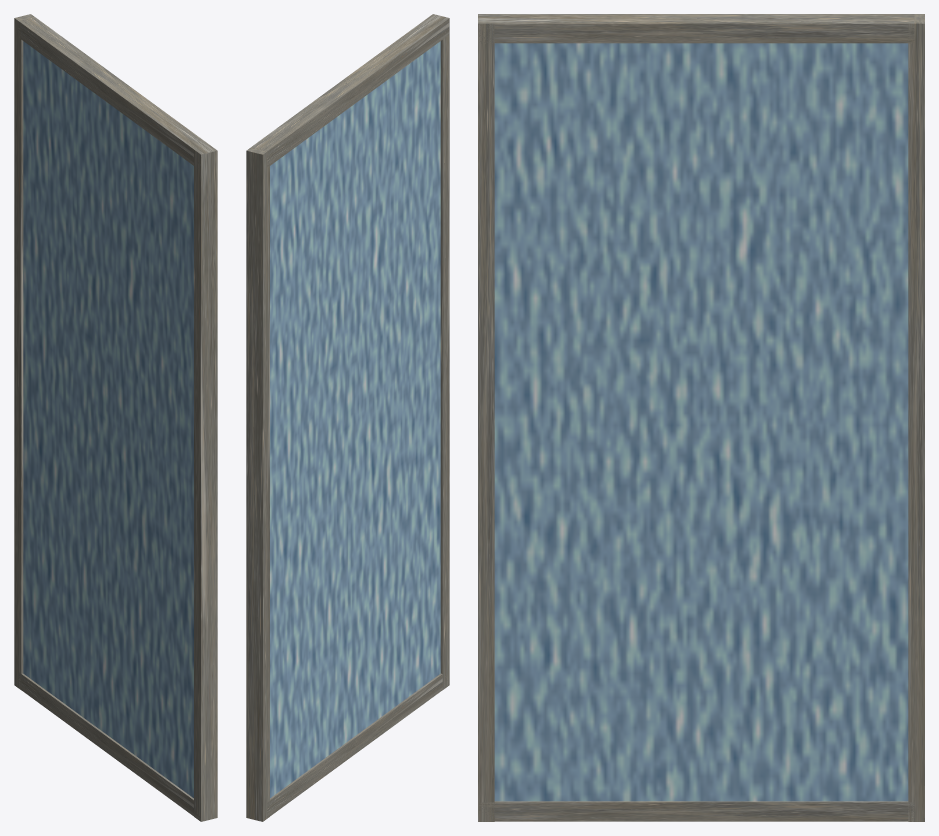
Rendered from window.glb.
3 views of the same model, side by side, from view 1: azimuth 30°, elevation 25°; view 2: azimuth 150°, elevation 25°; view 3: azimuth 270°, elevation 25° (orthographic). The views are drawn at different scales.
Visible parts, largest first — view 1: Cube, Cube.004; view 2: Cube, Cube.004; view 3: Cube, Cube.004.
Boxes of the visible parts, bbox=[...] form: Cube: bbox=[23, 41, 193, 797]; Cube.004: bbox=[14, 14, 217, 821]; Cube: bbox=[270, 41, 440, 797]; Cube.004: bbox=[246, 14, 449, 821]; Cube: bbox=[494, 43, 908, 801]; Cube.004: bbox=[478, 14, 924, 821].
Size of the model in its own units: 0.1016 by 3.91 by 1.98.
2 materials, 2 textured.
